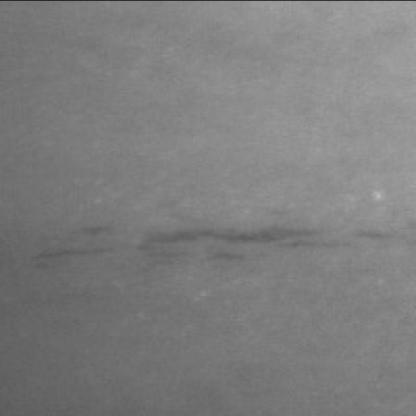inclusion: (121, 216, 380, 279), (23, 223, 127, 268)
